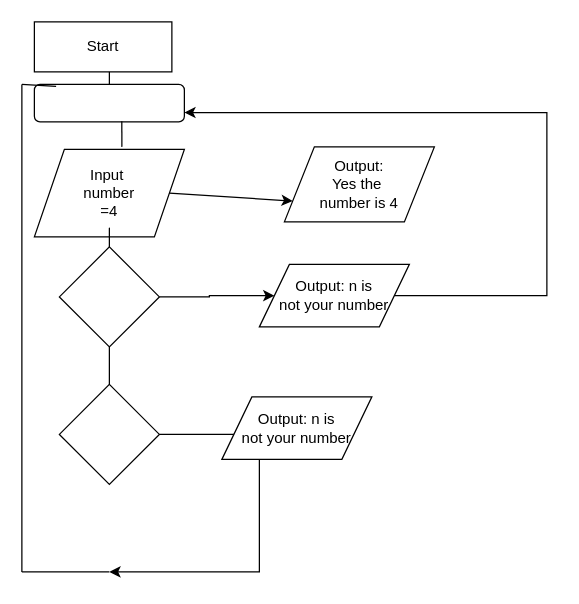
Some shapes in this 579 by 604 pixel diagram are drawn without their labels. Here are the shapes that lost their labels. From the top down, the centre of each, then its label:
At point (108, 102): "Input".
At point (108, 296): "n>4".
At point (108, 433): "n<4".
